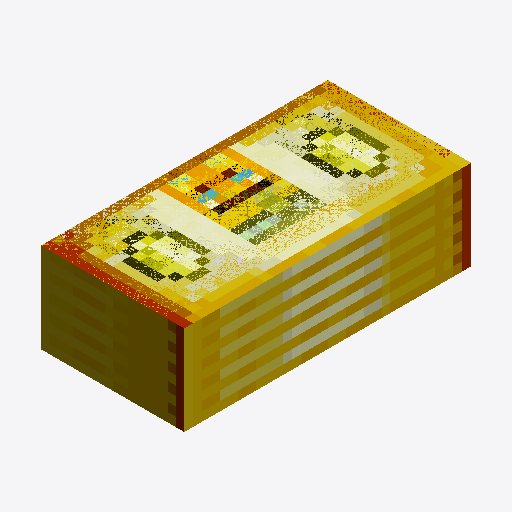
Isometric view (azimuth 45°, elevation 35.3°) of a Minecraft model made of 22 cuboids, textured from the same repository.
Parts seen in each view (by area): element 22, element 6, element 14, element 18, element 2, element 10, element 5, element 13, element 9, element 21, element 17.
Part boxes in pixels (left/top/right/bottom): element 22: left=41, top=80, right=470, bottom=327; element 6: left=184, top=225, right=470, bottom=410; element 14: left=184, top=184, right=470, bottom=369; element 18: left=184, top=163, right=470, bottom=348; element 2: left=184, top=246, right=470, bottom=431; element 10: left=184, top=205, right=470, bottom=389; element 5: left=41, top=329, right=183, bottom=431; element 13: left=41, top=287, right=183, bottom=389; element 9: left=41, top=308, right=183, bottom=410; element 21: left=41, top=246, right=183, bottom=348; element 17: left=41, top=267, right=183, bottom=368.
Size of the model in its own units: 16 by 5 by 8.